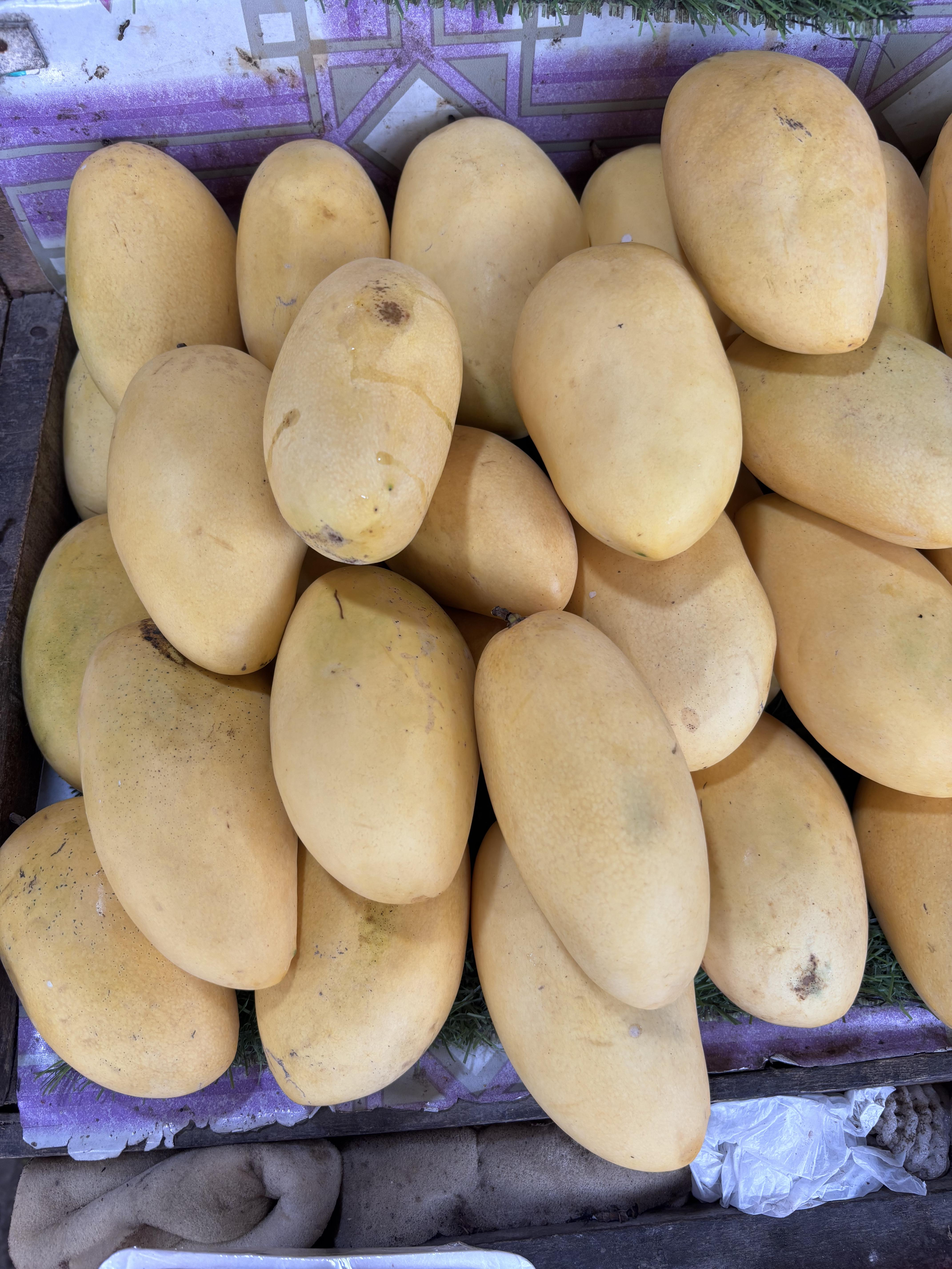mango: (475, 611, 709, 1010), (512, 242, 742, 561), (270, 566, 479, 904), (661, 51, 888, 354), (263, 257, 462, 564)
occluded: (471, 824, 710, 1172), (78, 618, 297, 990), (0, 796, 239, 1097), (270, 566, 479, 904), (108, 345, 308, 675), (735, 493, 952, 797), (391, 116, 589, 440), (256, 846, 470, 1105), (692, 714, 868, 1027), (567, 512, 776, 771), (728, 321, 952, 549), (65, 142, 244, 410), (390, 423, 577, 616), (236, 140, 390, 369), (21, 514, 147, 788), (581, 144, 734, 346), (853, 777, 952, 1027), (877, 141, 942, 348), (63, 353, 114, 519), (927, 116, 952, 357), (814, 827, 814, 828)
